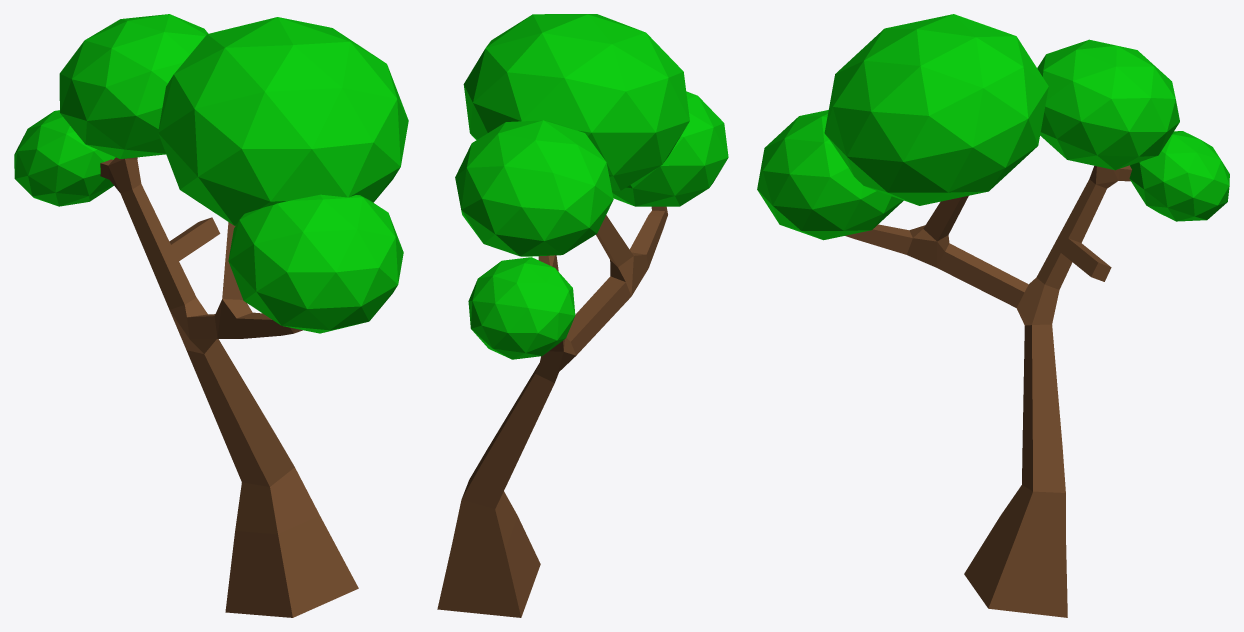
The model's file is tree.glb.
3 views of the same model, side by side, from view 1: azimuth 30°, elevation 25°; view 2: azimuth 150°, elevation 25°; view 3: azimuth 270°, elevation 25° (orthographic). The views are drawn at different scales.
Visible parts, largest first — view 1: Icosphere.003, body, Icosphere, Icosphere.001, Icosphere.002; view 2: Icosphere.003, body, Icosphere.001, Icosphere.002, Icosphere; view 3: Icosphere.003, body, Icosphere.001, Icosphere, Icosphere.002.
Part boxes in pixels (x1,y1,x2,y2): Icosphere.003: (158,17,408,225); body: (100,157,358,617); Icosphere: (228,194,403,333); Icosphere.001: (59,14,208,158); Icosphere.002: (14,110,115,206); Icosphere.003: (463,14,689,190); body: (437,206,667,617); Icosphere.001: (455,120,613,256); Icosphere.002: (468,257,575,359); Icosphere: (612,91,728,206); Icosphere.003: (824,14,1048,205); body: (845,165,1131,617); Icosphere.001: (1037,39,1179,170); Icosphere: (757,110,903,240); Icosphere.002: (1129,131,1229,221).
Bounding box in the file's own units: 0.6806 × 1.73 × 1.34.
